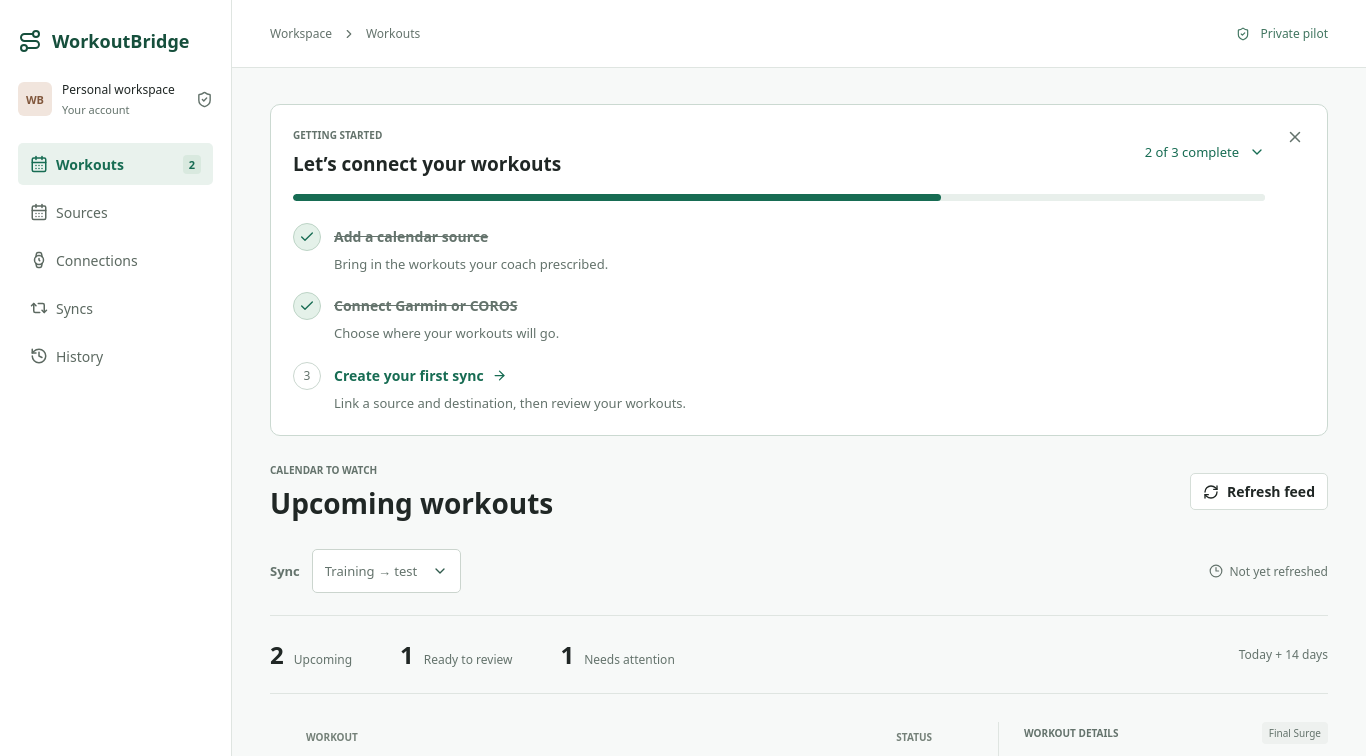
Test: sync destinations show the actual provider and stay on Syncs after creation
Step 1. Click the button "Syncs" → (116, 308), box [18,287,213,329]
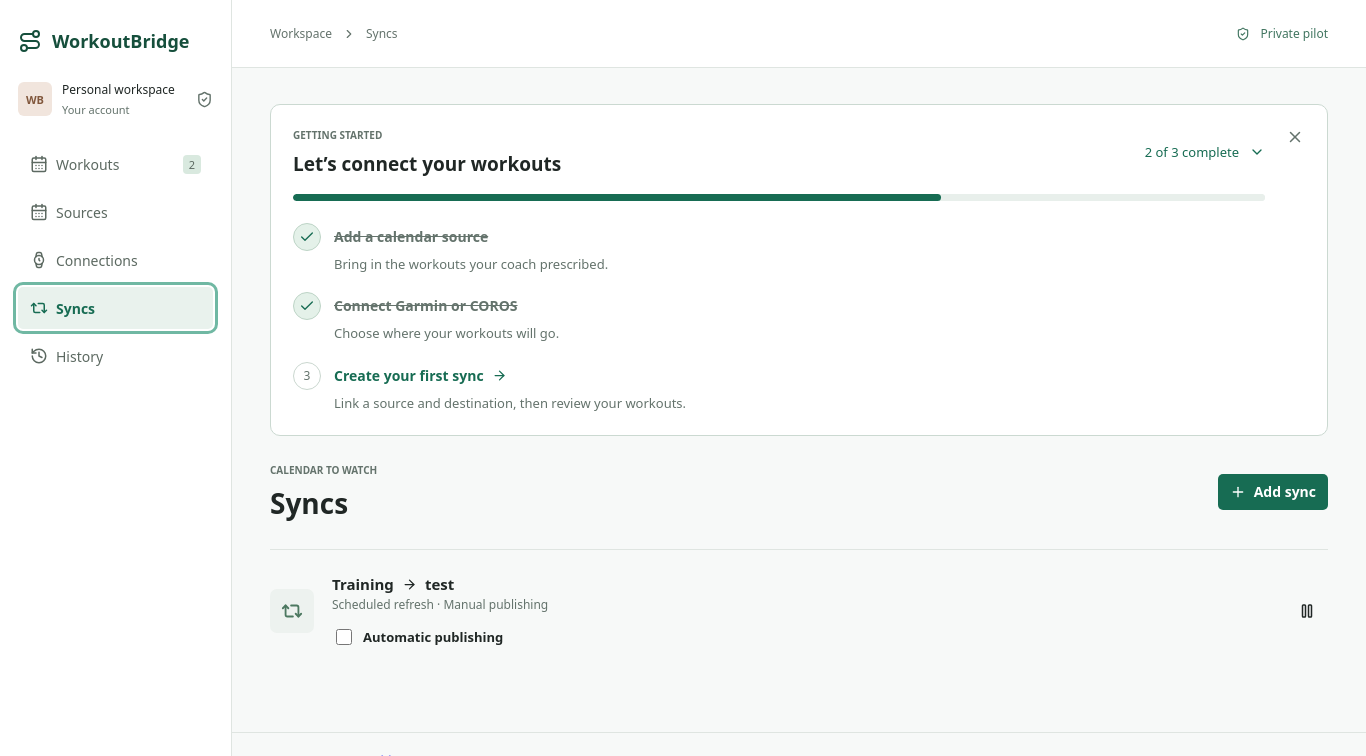
Step 2. Click the button "Add sync" → (1273, 492), box [1218,474,1328,510]
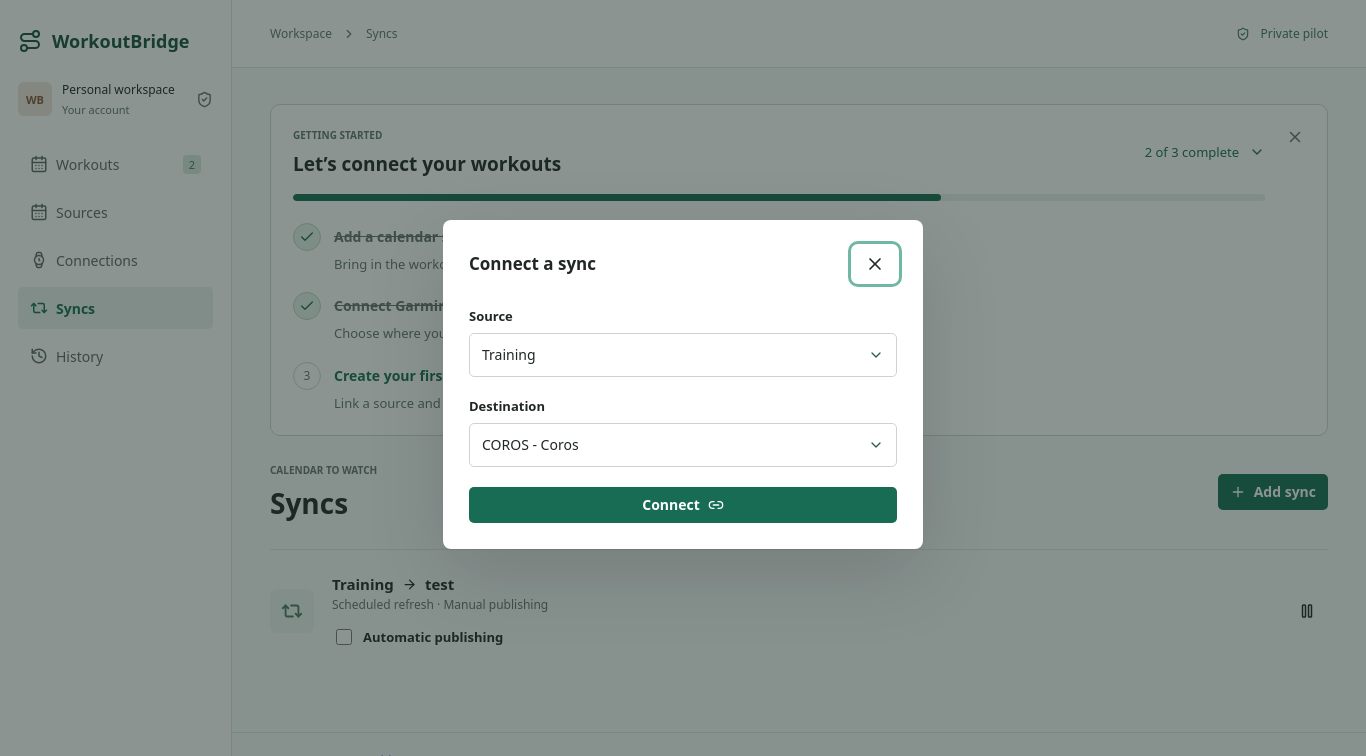
Step 3. Click the button "Connect" → (683, 504), box [469,486,897,522]
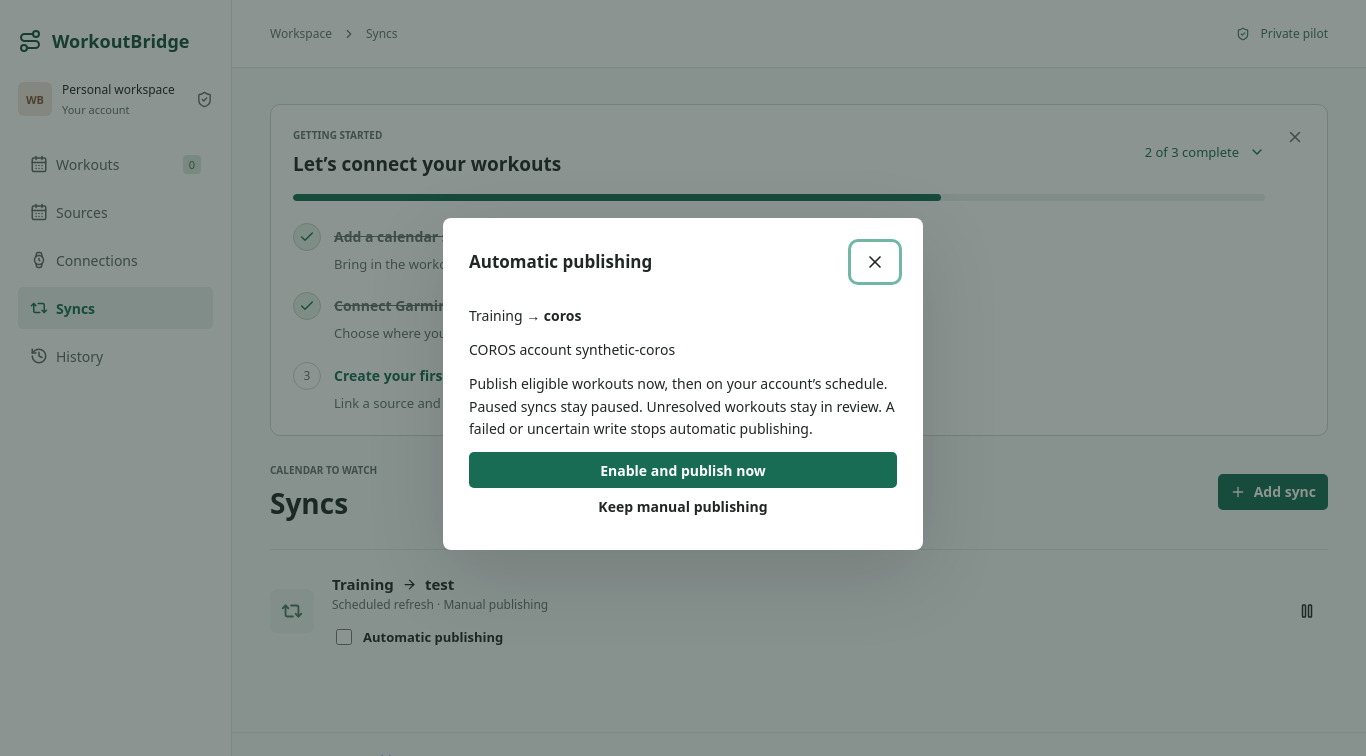
Expected: the heading "Syncs" is shown, [270,484,348,522]
Expected: the button "Keep manual publishing" is shown, [469,488,897,524]
Expected: the text "COROS account synthetic-coros" is shown, [469,340,675,359]
